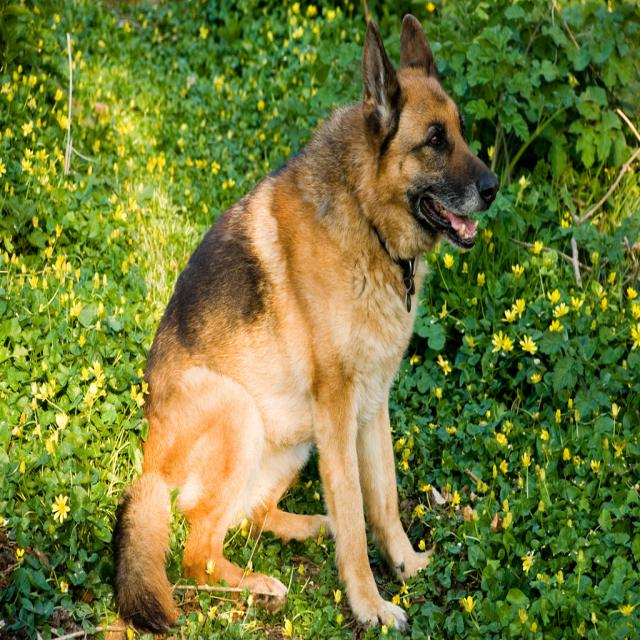Dog: (110, 12, 499, 639)
